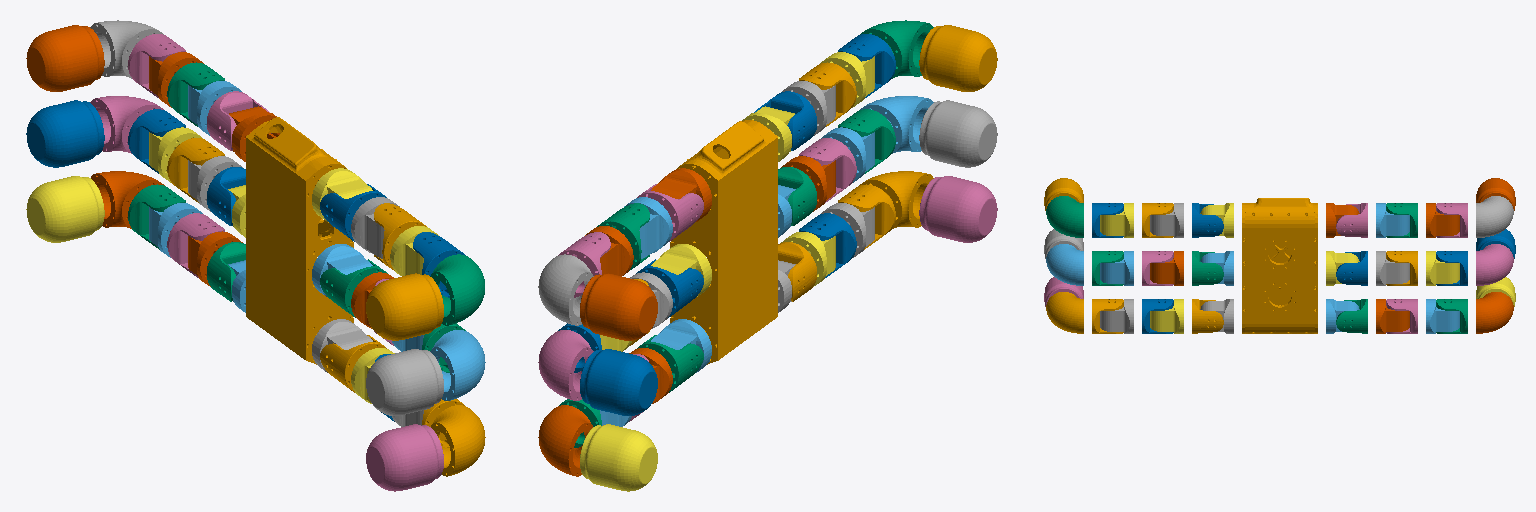
--- Render facts (derived) ---
3 views of the same robot in one strip: view 1: azimuth 30°, elevation 25°; view 2: azimuth 150°, elevation 25°; view 3: azimuth 270°, elevation 25° (orthographic).
Model modular_robot_compiled with 49 links and 48 joints (18 revolute, 30 fixed), rooted at eigenbody_M0_S0, posed all joints at 0.
Links seen in each view (by area): view 1: eigenbody_M0_S0, foot_input_M26_S26, foot_input_M30_S30, foot_input_M28_S28, foot_input_M29_S29, foot_input_M25_S25, foot_input_M27_S27, static_elbow_M24_S24, static_elbow_M22_S22, static_elbow_M23_S23, static_elbow_M19_S19, static_elbow_M20_S20 (+28 smaller); view 2: eigenbody_M0_S0, foot_input_M29_S29, foot_input_M27_S27, foot_input_M25_S25, foot_input_M26_S26, foot_input_M28_S28, foot_input_M30_S30, static_elbow_M21_S21, static_elbow_M19_S19, static_elbow_M20_S20, static_elbow_M22_S22, static_elbow_M23_S23 (+28 smaller); view 3: eigenbody_M0_S0, static_elbow_M21_S21, static_elbow_M24_S24, static_elbow_M20_S20, static_elbow_M23_S23, static_elbow_M19_S19, static_elbow_M22_S22, bendy_input_M7_S7, bendy_input_M10_S10, bendy_input_M11_S11, bendy_input_M12_S12, bendy_input_M8_S8 (+28 smaller).
Boxes of the visible links, x1,y1,x2,y2 form: eigenbody_M0_S0: (246, 117, 353, 364); foot_input_M26_S26: (26, 100, 104, 167); foot_input_M30_S30: (366, 273, 443, 340); foot_input_M28_S28: (366, 424, 443, 491); foot_input_M29_S29: (366, 349, 443, 415); foot_input_M25_S25: (26, 176, 104, 242); foot_input_M27_S27: (26, 25, 104, 91); static_elbow_M24_S24: (430, 254, 484, 325); static_elbow_M22_S22: (431, 405, 485, 476); static_elbow_M23_S23: (430, 330, 485, 400); static_elbow_M19_S19: (91, 171, 164, 228); static_elbow_M20_S20: (90, 96, 163, 153); eigenbody_M0_S0: (670, 120, 777, 364); foot_input_M29_S29: (919, 100, 997, 167); foot_input_M27_S27: (580, 273, 657, 340); foot_input_M25_S25: (580, 424, 657, 491); foot_input_M26_S26: (580, 349, 657, 415); foot_input_M28_S28: (919, 176, 997, 242); foot_input_M30_S30: (919, 25, 997, 91); static_elbow_M21_S21: (538, 254, 593, 325); static_elbow_M19_S19: (538, 405, 592, 476); static_elbow_M20_S20: (538, 330, 593, 400); static_elbow_M22_S22: (859, 171, 933, 228); static_elbow_M23_S23: (860, 96, 933, 153); eigenbody_M0_S0: (1242, 198, 1317, 333); static_elbow_M21_S21: (1476, 196, 1513, 237); static_elbow_M24_S24: (1046, 196, 1083, 237); static_elbow_M20_S20: (1476, 244, 1513, 285); static_elbow_M23_S23: (1046, 244, 1083, 285); static_elbow_M19_S19: (1476, 292, 1513, 333); static_elbow_M22_S22: (1046, 292, 1083, 333); bendy_input_M7_S7: (1376, 299, 1409, 333); bendy_input_M10_S10: (1150, 299, 1183, 333); bendy_input_M11_S11: (1150, 251, 1183, 285); bendy_input_M12_S12: (1150, 203, 1183, 237); bendy_input_M8_S8: (1376, 251, 1409, 285).
Size in the robot's own frame: 0.1475 by 0.802 by 0.2555 metres.
Meshes: 5 distinct files referenced, 49 mesh visuals loaded (5 binary STL).

URDF robot description (modular_robot_compiled):
<?xml version="1.0" ?>
<!-- =================================================================================== -->
<!-- |    This document was autogenerated by xacro from [local-path]/catkin_ws/src/eigenbot/urdf/autoXACRO.xacro | -->
<!-- |    EDITING THIS FILE BY HAND IS NOT RECOMMENDED                                 | -->
<!-- =================================================================================== -->
<robot name="modular_robot_compiled" xmlns:xacro="http://www.ros.org/wiki/xacro">
  <link name="eigenbody_M0_S0">
    <inertial>
      <mass value="0.84845"/>
      <origin rpy="0 0 0" xyz="-0.045 0 -0.063"/>
      <inertia ixx=".005031284" ixy="0.000000338" ixz="0.000086805" iyy="0.003968526" iyz="0.000039596" izz="0.001646162"/>
    </inertial>
    <visual>
      <geometry>
        <mesh filename="package://eigenbot/meshes/Eigenbody.STL" scale="1 1 1"/>
      </geometry>
    </visual>
    <collision>
      <geometry>
        <mesh filename="package://eigenbot/meshes/Eigenbody.STL" scale="1 1 1"/>
      </geometry>
    </collision>
    <material name="black">
      <color rgba="0.1 0.1 0.1 1"/>
    </material>
  </link>
  <link name="bendy_input_M1_S1">
    <inertial>
      <origin rpy="0 0 0" xyz="-0.023 0 0"/>
      <mass value="0.13536"/>
      <inertia ixx="0.000047004" ixy="-0.000000049" ixz="0.000000017" iyy="0.000068413" iyz="0.000000009" izz="0.000070686"/>
    </inertial>
    <visual>
      <geometry>
        <mesh filename="package://eigenbot/meshes/Bendy In.STL" scale="1 1 1"/>
      </geometry>
    </visual>
    <collision>
      <geometry>
        <mesh filename="package://eigenbot/meshes/Bendy In.STL" scale="1 1 1"/>
      </geometry>
    </collision>
    <material name="black">
      <color rgba="0.1 0.1 0.1 1"/>
    </material>
  </link>
  <link name="bendy_output_M1_S1">
    <inertial>
      <origin rpy="0 0 0" xyz="-0.029 0 0"/>
      <mass value=".03522"/>
      <inertia ixx="0.000021977" ixy="0.000000082" ixz="-0.000000063" iyy="0.000017473" iyz="0.000000067" izz="0.000021078"/>
    </inertial>
    <visual>
      <geometry>
        <mesh filename="package://eigenbot/meshes/Bendy Out.STL" scale="1 1 1"/>
      </geometry>
      <origin rpy="0 0 0" xyz="0 0 0 "/>
    </visual>
    <collision>
      <geometry>
        <mesh filename="package://eigenbot/meshes/Bendy Out.STL" scale="1 1 1"/>
      </geometry>
      <origin rpy="0 0 0" xyz="0 0 0"/>
    </collision>
    <material name="black">
      <color rgba="0.1 0.1 0.1 1"/>
    </material>
  </link>
  <joint name="bendy_joint_M1_S1" type="revolute">
    <parent link="bendy_input_M1_S1"/>
    <child link="bendy_output_M1_S1"/>
    <origin rpy="0 0 0" xyz="-0.049 0 0"/>
    <axis xyz="0 1 0"/>
    <limit effort="100.0" lower="-1.57079632679" upper="1.57079632679" velocity="5"/>
  </joint>
  <link name="bendy_input_M2_S2">
    <inertial>
      <origin rpy="0 0 0" xyz="-0.023 0 0"/>
      <mass value="0.13536"/>
      <inertia ixx="0.000047004" ixy="-0.000000049" ixz="0.000000017" iyy="0.000068413" iyz="0.000000009" izz="0.000070686"/>
    </inertial>
    <visual>
      <geometry>
        <mesh filename="package://eigenbot/meshes/Bendy In.STL" scale="1 1 1"/>
      </geometry>
    </visual>
    <collision>
      <geometry>
        <mesh filename="package://eigenbot/meshes/Bendy In.STL" scale="1 1 1"/>
      </geometry>
    </collision>
    <material name="black">
      <color rgba="0.1 0.1 0.1 1"/>
    </material>
  </link>
  <link name="bendy_output_M2_S2">
    <inertial>
      <origin rpy="0 0 0" xyz="-0.029 0 0"/>
      <mass value=".03522"/>
      <inertia ixx="0.000021977" ixy="0.000000082" ixz="-0.000000063" iyy="0.000017473" iyz="0.000000067" izz="0.000021078"/>
    </inertial>
    <visual>
      <geometry>
        <mesh filename="package://eigenbot/meshes/Bendy Out.STL" scale="1 1 1"/>
      </geometry>
      <origin rpy="0 0 0" xyz="0 0 0 "/>
    </visual>
    <collision>
      <geometry>
        <mesh filename="package://eigenbot/meshes/Bendy Out.STL" scale="1 1 1"/>
      </geometry>
      <origin rpy="0 0 0" xyz="0 0 0"/>
    </collision>
    <material name="black">
      <color rgba="0.1 0.1 0.1 1"/>
    </material>
  </link>
  <joint name="bendy_joint_M2_S2" type="revolute">
    <parent link="bendy_input_M2_S2"/>
    <child link="bendy_output_M2_S2"/>
    <origin rpy="0 0 0" xyz="-0.049 0 0"/>
    <axis xyz="0 1 0"/>
    <limit effort="100.0" lower="-1.57079632679" upper="1.57079632679" velocity="5"/>
  </joint>
  <link name="bendy_input_M3_S3">
    <inertial>
      <origin rpy="0 0 0" xyz="-0.023 0 0"/>
      <mass value="0.13536"/>
      <inertia ixx="0.000047004" ixy="-0.000000049" ixz="0.000000017" iyy="0.000068413" iyz="0.000000009" izz="0.000070686"/>
    </inertial>
    <visual>
      <geometry>
        <mesh filename="package://eigenbot/meshes/Bendy In.STL" scale="1 1 1"/>
      </geometry>
    </visual>
    <collision>
      <geometry>
        <mesh filename="package://eigenbot/meshes/Bendy In.STL" scale="1 1 1"/>
      </geometry>
    </collision>
    <material name="black">
      <color rgba="0.1 0.1 0.1 1"/>
    </material>
  </link>
  <link name="bendy_output_M3_S3">
    <inertial>
      <origin rpy="0 0 0" xyz="-0.029 0 0"/>
      <mass value=".03522"/>
      <inertia ixx="0.000021977" ixy="0.000000082" ixz="-0.000000063" iyy="0.000017473" iyz="0.000000067" izz="0.000021078"/>
    </inertial>
    <visual>
      <geometry>
        <mesh filename="package://eigenbot/meshes/Bendy Out.STL" scale="1 1 1"/>
      </geometry>
      <origin rpy="0 0 0" xyz="0 0 0 "/>
    </visual>
    <collision>
      <geometry>
        <mesh filename="package://eigenbot/meshes/Bendy Out.STL" scale="1 1 1"/>
      </geometry>
      <origin rpy="0 0 0" xyz="0 0 0"/>
    </collision>
    <material name="black">
      <color rgba="0.1 0.1 0.1 1"/>
    </material>
  </link>
  <joint name="bendy_joint_M3_S3" type="revolute">
    <parent link="bendy_input_M3_S3"/>
    <child link="bendy_output_M3_S3"/>
    <origin rpy="0 0 0" xyz="-0.049 0 0"/>
    <axis xyz="0 1 0"/>
    <limit effort="100.0" lower="-1.57079632679" upper="1.57079632679" velocity="5"/>
  </joint>
  <link name="bendy_input_M4_S4">
    <inertial>
      <origin rpy="0 0 0" xyz="-0.023 0 0"/>
      <mass value="0.13536"/>
      <inertia ixx="0.000047004" ixy="-0.000000049" ixz="0.000000017" iyy="0.000068413" iyz="0.000000009" izz="0.000070686"/>
    </inertial>
    <visual>
      <geometry>
        <mesh filename="package://eigenbot/meshes/Bendy In.STL" scale="1 1 1"/>
      </geometry>
    </visual>
    <collision>
      <geometry>
        <mesh filename="package://eigenbot/meshes/Bendy In.STL" scale="1 1 1"/>
      </geometry>
    </collision>
    <material name="black">
      <color rgba="0.1 0.1 0.1 1"/>
    </material>
  </link>
  <link name="bendy_output_M4_S4">
    <inertial>
      <origin rpy="0 0 0" xyz="-0.029 0 0"/>
      <mass value=".03522"/>
      <inertia ixx="0.000021977" ixy="0.000000082" ixz="-0.000000063" iyy="0.000017473" iyz="0.000000067" izz="0.000021078"/>
    </inertial>
    <visual>
      <geometry>
        <mesh filename="package://eigenbot/meshes/Bendy Out.STL" scale="1 1 1"/>
      </geometry>
      <origin rpy="0 0 0" xyz="0 0 0 "/>
    </visual>
    <collision>
      <geometry>
        <mesh filename="package://eigenbot/meshes/Bendy Out.STL" scale="1 1 1"/>
      </geometry>
      <origin rpy="0 0 0" xyz="0 0 0"/>
    </collision>
    <material name="black">
      <color rgba="0.1 0.1 0.1 1"/>
    </material>
  </link>
  <joint name="bendy_joint_M4_S4" type="revolute">
    <parent link="bendy_input_M4_S4"/>
    <child link="bendy_output_M4_S4"/>
    <origin rpy="0 0 0" xyz="-0.049 0 0"/>
    <axis xyz="0 1 0"/>
    <limit effort="100.0" lower="-1.57079632679" upper="1.57079632679" velocity="5"/>
  </joint>
  <link name="bendy_input_M5_S5">
    <inertial>
      <origin rpy="0 0 0" xyz="-0.023 0 0"/>
      <mass value="0.13536"/>
      <inertia ixx="0.000047004" ixy="-0.000000049" ixz="0.000000017" iyy="0.000068413" iyz="0.000000009" izz="0.000070686"/>
    </inertial>
    <visual>
      <geometry>
        <mesh filename="package://eigenbot/meshes/Bendy In.STL" scale="1 1 1"/>
      </geometry>
    </visual>
    <collision>
      <geometry>
        <mesh filename="package://eigenbot/meshes/Bendy In.STL" scale="1 1 1"/>
      </geometry>
    </collision>
    <material name="black">
      <color rgba="0.1 0.1 0.1 1"/>
    </material>
  </link>
  <link name="bendy_output_M5_S5">
    <inertial>
      <origin rpy="0 0 0" xyz="-0.029 0 0"/>
      <mass value=".03522"/>
      <inertia ixx="0.000021977" ixy="0.000000082" ixz="-0.000000063" iyy="0.000017473" iyz="0.000000067" izz="0.000021078"/>
    </inertial>
    <visual>
      <geometry>
        <mesh filename="package://eigenbot/meshes/Bendy Out.STL" scale="1 1 1"/>
      </geometry>
      <origin rpy="0 0 0" xyz="0 0 0 "/>
    </visual>
    <collision>
      <geometry>
        <mesh filename="package://eigenbot/meshes/Bendy Out.STL" scale="1 1 1"/>
      </geometry>
      <origin rpy="0 0 0" xyz="0 0 0"/>
    </collision>
    <material name="black">
      <color rgba="0.1 0.1 0.1 1"/>
    </material>
  </link>
  <joint name="bendy_joint_M5_S5" type="revolute">
    <parent link="bendy_input_M5_S5"/>
    <child link="bendy_output_M5_S5"/>
    <origin rpy="0 0 0" xyz="-0.049 0 0"/>
    <axis xyz="0 1 0"/>
    <limit effort="100.0" lower="-1.57079632679" upper="1.57079632679" velocity="5"/>
  </joint>
  <link name="bendy_input_M6_S6">
    <inertial>
      <origin rpy="0 0 0" xyz="-0.023 0 0"/>
      <mass value="0.13536"/>
      <inertia ixx="0.000047004" ixy="-0.000000049" ixz="0.000000017" iyy="0.000068413" iyz="0.000000009" izz="0.000070686"/>
    </inertial>
    <visual>
      <geometry>
        <mesh filename="package://eigenbot/meshes/Bendy In.STL" scale="1 1 1"/>
      </geometry>
    </visual>
    <collision>
      <geometry>
        <mesh filename="package://eigenbot/meshes/Bendy In.STL" scale="1 1 1"/>
      </geometry>
    </collision>
    <material name="black">
      <color rgba="0.1 0.1 0.1 1"/>
    </material>
  </link>
  <link name="bendy_output_M6_S6">
    <inertial>
      <origin rpy="0 0 0" xyz="-0.029 0 0"/>
      <mass value=".03522"/>
      <inertia ixx="0.000021977" ixy="0.000000082" ixz="-0.000000063" iyy="0.000017473" iyz="0.000000067" izz="0.000021078"/>
    </inertial>
    <visual>
      <geometry>
        <mesh filename="package://eigenbot/meshes/Bendy Out.STL" scale="1 1 1"/>
      </geometry>
      <origin rpy="0 0 0" xyz="0 0 0 "/>
    </visual>
    <collision>
      <geometry>
        <mesh filename="package://eigenbot/meshes/Bendy Out.STL" scale="1 1 1"/>
      </geometry>
      <origin rpy="0 0 0" xyz="0 0 0"/>
    </collision>
    <material name="black">
      <color rgba="0.1 0.1 0.1 1"/>
    </material>
  </link>
  <joint name="bendy_joint_M6_S6" type="revolute">
    <parent link="bendy_input_M6_S6"/>
    <child link="bendy_output_M6_S6"/>
    <origin rpy="0 0 0" xyz="-0.049 0 0"/>
    <axis xyz="0 1 0"/>
    <limit effort="100.0" lower="-1.57079632679" upper="1.57079632679" velocity="5"/>
  </joint>
  <link name="bendy_input_M7_S7">
    <inertial>
      <origin rpy="0 0 0" xyz="-0.023 0 0"/>
      <mass value="0.13536"/>
      <inertia ixx="0.000047004" ixy="-0.000000049" ixz="0.000000017" iyy="0.000068413" iyz="0.000000009" izz="0.000070686"/>
    </inertial>
    <visual>
      <geometry>
        <mesh filename="package://eigenbot/meshes/Bendy In.STL" scale="1 1 1"/>
      </geometry>
    </visual>
    <collision>
      <geometry>
        <mesh filename="package://eigenbot/meshes/Bendy In.STL" scale="1 1 1"/>
      </geometry>
    </collision>
    <material name="black">
      <color rgba="0.1 0.1 0.1 1"/>
    </material>
  </link>
  <link name="bendy_output_M7_S7">
    <inertial>
      <origin rpy="0 0 0" xyz="-0.029 0 0"/>
      <mass value=".03522"/>
      <inertia ixx="0.000021977" ixy="0.000000082" ixz="-0.000000063" iyy="0.000017473" iyz="0.000000067" izz="0.000021078"/>
    </inertial>
    <visual>
      <geometry>
        <mesh filename="package://eigenbot/meshes/Bendy Out.STL" scale="1 1 1"/>
      </geometry>
      <origin rpy="0 0 0" xyz="0 0 0 "/>
    </visual>
    <collision>
      <geometry>
        <mesh filename="package://eigenbot/meshes/Bendy Out.STL" scale="1 1 1"/>
      </geometry>
      <origin rpy="0 0 0" xyz="0 0 0"/>
    </collision>
    <material name="black">
      <color rgba="0.1 0.1 0.1 1"/>
    </material>
  </link>
  <joint name="bendy_joint_M7_S7" type="revolute">
    <parent link="bendy_input_M7_S7"/>
    <child link="bendy_output_M7_S7"/>
    <origin rpy="0 0 0" xyz="-0.049 0 0"/>
    <axis xyz="0 1 0"/>
    <limit effort="100.0" lower="-1.57079632679" upper="1.57079632679" velocity="5"/>
  </joint>
  <link name="bendy_input_M8_S8">
    <inertial>
      <origin rpy="0 0 0" xyz="-0.023 0 0"/>
      <mass value="0.13536"/>
      <inertia ixx="0.000047004" ixy="-0.000000049" ixz="0.000000017" iyy="0.000068413" iyz="0.000000009" izz="0.000070686"/>
    </inertial>
    <visual>
      <geometry>
        <mesh filename="package://eigenbot/meshes/Bendy In.STL" scale="1 1 1"/>
      </geometry>
    </visual>
    <collision>
      <geometry>
        <mesh filename="package://eigenbot/meshes/Bendy In.STL" scale="1 1 1"/>
      </geometry>
    </collision>
    <material name="black">
      <color rgba="0.1 0.1 0.1 1"/>
    </material>
  </link>
  <link name="bendy_output_M8_S8">
    <inertial>
      <origin rpy="0 0 0" xyz="-0.029 0 0"/>
      <mass value=".03522"/>
      <inertia ixx="0.000021977" ixy="0.000000082" ixz="-0.000000063" iyy="0.000017473" iyz="0.000000067" izz="0.000021078"/>
    </inertial>
    <visual>
      <geometry>
        <mesh filename="package://eigenbot/meshes/Bendy Out.STL" scale="1 1 1"/>
      </geometry>
      <origin rpy="0 0 0" xyz="0 0 0 "/>
    </visual>
    <collision>
      <geometry>
        <mesh filename="package://eigenbot/meshes/Bendy Out.STL" scale="1 1 1"/>
      </geometry>
      <origin rpy="0 0 0" xyz="0 0 0"/>
    </collision>
    <material name="black">
      <color rgba="0.1 0.1 0.1 1"/>
    </material>
  </link>
  <joint name="bendy_joint_M8_S8" type="revolute">
    <parent link="bendy_input_M8_S8"/>
    <child link="bendy_output_M8_S8"/>
    <origin rpy="0 0 0" xyz="-0.049 0 0"/>
    <axis xyz="0 1 0"/>
    <limit effort="100.0" lower="-1.57079632679" upper="1.57079632679" velocity="5"/>
  </joint>
  <link name="bendy_input_M9_S9">
    <inertial>
      <origin rpy="0 0 0" xyz="-0.023 0 0"/>
      <mass value="0.13536"/>
      <inertia ixx="0.000047004" ixy="-0.000000049" ixz="0.000000017" iyy="0.000068413" iyz="0.000000009" izz="0.000070686"/>
    </inertial>
    <visual>
      <geometry>
        <mesh filename="package://eigenbot/meshes/Bendy In.STL" scale="1 1 1"/>
      </geometry>
    </visual>
    <collision>
      <geometry>
        <mesh filename="package://eigenbot/meshes/Bendy In.STL" scale="1 1 1"/>
      </geometry>
    </collision>
    <material name="black">
      <color rgba="0.1 0.1 0.1 1"/>
    </material>
  </link>
  <link name="bendy_output_M9_S9">
    <inertial>
      <origin rpy="0 0 0" xyz="-0.029 0 0"/>
      <mass value=".03522"/>
      <inertia ixx="0.000021977" ixy="0.000000082" ixz="-0.000000063" iyy="0.000017473" iyz="0.000000067" izz="0.000021078"/>
    </inertial>
    <visual>
      <geometry>
        <mesh filename="package://eigenbot/meshes/Bendy Out.STL" scale="1 1 1"/>
      </geometry>
      <origin rpy="0 0 0" xyz="0 0 0 "/>
    </visual>
    <collision>
      <geometry>
        <mesh filename="package://eigenbot/meshes/Bendy Out.STL" scale="1 1 1"/>
      </geometry>
      <origin rpy="0 0 0" xyz="0 0 0"/>
    </collision>
    <material name="black">
      <color rgba="0.1 0.1 0.1 1"/>
    </material>
  </link>
  <joint name="bendy_joint_M9_S9" type="revolute">
    <parent link="bendy_input_M9_S9"/>
    <child link="bendy_output_M9_S9"/>
    <origin rpy="0 0 0" xyz="-0.049 0 0"/>
    <axis xyz="0 1 0"/>
    <limit effort="100.0" lower="-1.57079632679" upper="1.57079632679" velocity="5"/>
  </joint>
  <link name="bendy_input_M10_S10">
    <inertial>
      <origin rpy="0 0 0" xyz="-0.023 0 0"/>
      <mass value="0.13536"/>
      <inertia ixx="0.000047004" ixy="-0.000000049" ixz="0.000000017" iyy="0.000068413" iyz="0.000000009" izz="0.000070686"/>
    </inertial>
    <visual>
      <geometry>
        <mesh filename="package://eigenbot/meshes/Bendy In.STL" scale="1 1 1"/>
      </geometry>
    </visual>
    <collision>
      <geometry>
        <mesh filename="package://eigenbot/meshes/Bendy In.STL" scale="1 1 1"/>
      </geometry>
    </collision>
    <material name="black">
      <color rgba="0.1 0.1 0.1 1"/>
    </material>
  </link>
  <link name="bendy_output_M10_S10">
    <inertial>
      <origin rpy="0 0 0" xyz="-0.029 0 0"/>
      <mass value=".03522"/>
      <inertia ixx="0.000021977" ixy="0.000000082" ixz="-0.000000063" iyy="0.000017473" iyz="0.000000067" izz="0.000021078"/>
    </inertial>
    <visual>
      <geometry>
        <mesh filename="package://eigenbot/meshes/Bendy Out.STL" scale="1 1 1"/>
      </geometry>
      <origin rpy="0 0 0" xyz="0 0 0 "/>
    </visual>
    <collision>
      <geometry>
        <mesh filename="package://eigenbot/meshes/Bendy Out.STL" scale="1 1 1"/>
      </geometry>
      <origin rpy="0 0 0" xyz="0 0 0"/>
    </collision>
    <material name="black">
      <color rgba="0.1 0.1 0.1 1"/>
    </material>
  </link>
  <joint name="bendy_joint_M10_S10" type="revolute">
    <parent link="bendy_input_M10_S10"/>
    <child link="bendy_output_M10_S10"/>
    <origin rpy="0 0 0" xyz="-0.049 0 0"/>
    <axis xyz="0 1 0"/>
    <limit effort="100.0" lower="-1.57079632679" upper="1.57079632679" velocity="5"/>
  </joint>
  <link name="bendy_input_M11_S11">
    <inertial>
      <origin rpy="0 0 0" xyz="-0.023 0 0"/>
      <mass value="0.13536"/>
      <inertia ixx="0.000047004" ixy="-0.000000049" ixz="0.000000017" iyy="0.000068413" iyz="0.000000009" izz="0.000070686"/>
    </inertial>
    <visual>
      <geometry>
        <mesh filename="package://eigenbot/meshes/Bendy In.STL" scale="1 1 1"/>
      </geometry>
    </visual>
    <collision>
      <geometry>
        <mesh filename="package://eigenbot/meshes/Bendy In.STL" scale="1 1 1"/>
      </geometry>
    </collision>
    <material name="black">
      <color rgba="0.1 0.1 0.1 1"/>
    </material>
  </link>
  <link name="bendy_output_M11_S11">
    <inertial>
      <origin rpy="0 0 0" xyz="-0.029 0 0"/>
      <mass value=".03522"/>
      <inertia ixx="0.000021977" ixy="0.000000082" ixz="-0.000000063" iyy="0.000017473" iyz="0.000000067" izz="0.000021078"/>
    </inertial>
    <visual>
      <geometry>
        <mesh filename="package://eigenbot/meshes/Bendy Out.STL" scale="1 1 1"/>
      </geometry>
      <origin rpy="0 0 0" xyz="0 0 0 "/>
    </visual>
    <collision>
      <geometry>
        <mesh filename="package://eigenbot/meshes/Bendy Out.STL" scale="1 1 1"/>
      </geometry>
      <origin rpy="0 0 0" xyz="0 0 0"/>
    </collision>
    <material name="black">
      <color rgba="0.1 0.1 0.1 1"/>
    </material>
  </link>
  <joint name="bendy_joint_M11_S11" type="revolute">
    <parent link="bendy_input_M11_S11"/>
    <child link="bendy_output_M11_S11"/>
    <origin rpy="0 0 0" xyz="-0.049 0 0"/>
    <axis xyz="0 1 0"/>
    <limit effort="100.0" lower="-1.57079632679" upper="1.57079632679" velocity="5"/>
  </joint>
  <link name="bendy_input_M12_S12">
    <inertial>
      <origin rpy="0 0 0" xyz="-0.023 0 0"/>
      <mass value="0.13536"/>
      <inertia ixx="0.000047004" ixy="-0.000000049" ixz="0.000000017" iyy="0.000068413" iyz="0.000000009" izz="0.000070686"/>
    </inertial>
    <visual>
      <geometry>
        <mesh filename="package://eigenbot/meshes/Bendy In.STL" scale="1 1 1"/>
      </geometry>
    </visual>
    <collision>
      <geometry>
        <mesh filename="package://eigenbot/meshes/Bendy In.STL" scale="1 1 1"/>
      </geometry>
    </collision>
    <material name="black">
      <color rgba="0.1 0.1 0.1 1"/>
    </material>
  </link>
  <link name="bendy_output_M12_S12">
    <inertial>
      <origin rpy="0 0 0" xyz="-0.029 0 0"/>
      <mass value=".03522"/>
      <inertia ixx="0.000021977" ixy="0.000000082" ixz="-0.000000063" iyy="0.000017473" iyz="0.000000067" izz="0.000021078"/>
    </inertial>
    <visual>
      <geometry>
        <mesh filename="package://eigenbot/meshes/Bendy Out.STL" scale="1 1 1"/>
      </geometry>
      <origin rpy="0 0 0" xyz="0 0 0 "/>
    </visual>
    <collision>
      <geometry>
        <mesh filename="package://eigenbot/meshes/Bendy Out.STL" scale="1 1 1"/>
      </geometry>
      <origin rpy="0 0 0" xyz="0 0 0"/>
    </collision>
    <material name="black">
      <color rgba="0.1 0.1 0.1 1"/>
    </material>
  </link>
  <joint name="bendy_joint_M12_S12" type="revolute">
    <parent link="bendy_input_M12_S12"/>
    <child link="bendy_output_M12_S12"/>
    <origin rpy="0 0 0" xyz="-0.049 0 0"/>
    <axis xyz="0 1 0"/>
    <limit effort="100.0" lower="-1.57079632679" upper="1.57079632679" velocity="5"/>
  </joint>
  <link name="bendy_input_M13_S13">
    <inertial>
      <origin rpy="0 0 0" xyz="-0.023 0 0"/>
      <mass value="0.13536"/>
      <inertia ixx="0.000047004" ixy="-0.000000049" ixz="0.000000017" iyy="0.000068413" iyz="0.000000009" izz="0.000070686"/>
    </inertial>
    <visual>
      <geometry>
        <mesh filename="package://eigenbot/meshes/Bendy In.STL" scale="1 1 1"/>
      </geometry>
    </visual>
    <collision>
      <geometry>
        <mesh filename="package://eigenbot/meshes/Bendy In.STL" scale="1 1 1"/>
      </geometry>
    </collision>
    <material name="black">
      <color rgba="0.1 0.1 0.1 1"/>
    </material>
  </link>
  <link name="bendy_output_M13_S13">
    <inertial>
      <origin rpy="0 0 0" xyz="-0.029 0 0"/>
      <mass value=".03522"/>
      <inertia ixx="0.000021977" ixy="0.000000082" ixz="-0.000000063" iyy="0.000017473" iyz="0.000000067" izz="0.000021078"/>
    </inertial>
    <visual>
      <geometry>
        <mesh filename="package://eigenbot/meshes/Bendy Out.STL" scale="1 1 1"/>
      </geometry>
      <origin rpy="0 0 0" xyz="0 0 0 "/>
    </visual>
    <collision>
      <geometry>
        <mesh filename="package://eigenbot/meshes/Bendy Out.STL" scale="1 1 1"/>
      </geometry>
      <origin rpy="0 0 0" xyz="0 0 0"/>
    </collision>
    <material name="black">
      <color rgba="0.1 0.1 0.1 1"/>
    </material>
  </link>
  <joint name="bendy_joint_M13_S13" type="revolute">
    <parent link="bendy_input_M13_S13"/>
    <child link="bendy_output_M13_S13"/>
    <origin rpy="0 0 0" xyz="-0.049 0 0"/>
    <axis xyz="0 1 0"/>
    <limit effort="100.0" lower="-1.57079632679" upper="1.57079632679" velocity="5"/>
  </joint>
  <link name="bendy_input_M14_S14">
    <inertial>
      <origin rpy="0 0 0" xyz="-0.023 0 0"/>
      <mass value="0.13536"/>
      <inertia ixx="0.000047004" ixy="-0.000000049" ixz="0.000000017" iyy="0.000068413" iyz="0.000000009" izz="0.000070686"/>
    </inertial>
    <visual>
      <geometry>
        <mesh filename="package://eigenbot/meshes/Bendy In.STL" scale="1 1 1"/>
      </geometry>
    </visual>
    <collision>
      <geometry>
        <mesh filename="package://eigenbot/meshes/Bendy In.STL" scale="1 1 1"/>
      </geometry>
    </collision>
    <material name="black">
      <color rgba="0.1 0.1 0.1 1"/>
    </material>
  </link>
  <link name="bendy_output_M14_S14">
    <inertial>
      <origin rpy="0 0 0" xyz="-0.029 0 0"/>
      <mass value=".03522"/>
      <inertia ixx="0.000021977" ixy="0.000000082" ixz="-0.000000063" iyy="0.000017473" iyz="0.000000067" izz="0.000021078"/>
    </inertial>
    <visual>
      <geometry>
        <mesh filename="package://eigenbot/meshes/Bendy Out.STL" scale="1 1 1"/>
      </geometry>
      <origin rpy="0 0 0" xyz="0 0 0 "/>
    </visual>
    <collision>
      <geometry>
        <mesh filename="package://eigenbot/meshes/Bendy Out.STL" scale="1 1 1"/>
      </geometry>
      <origin rpy="0 0 0" xyz="0 0 0"/>
    </collision>
    <material name="black">
      <color rgba="0.1 0.1 0.1 1"/>
    </material>
  </link>
  <joint name="bendy_joint_M14_S14" type="revolute">
    <parent link="bendy_input_M14_S14"/>
    <child link="bendy_output_M14_S14"/>
    <origin rpy="0 0 0" xyz="-0.049 0 0"/>
    <axis xyz="0 1 0"/>
    <limit effort="100.0" lower="-1.57079632679" upper="1.57079632679" velocity="5"/>
  </joint>
  <link name="bendy_input_M15_S15">
    <inertial>
      <origin rpy="0 0 0" xyz="-0.023 0 0"/>
      <mass value="0.13536"/>
      <inertia ixx="0.000047004" ixy="-0.000000049" ixz="0.000000017" iyy="0.000068413" iyz="0.000000009" izz="0.000070686"/>
    </inertial>
    <visual>
      <geometry>
        <mesh filename="package://eigenbot/meshes/Bendy In.STL" scale="1 1 1"/>
      </geometry>
    </visual>
    <collision>
      <geometry>
        <mesh filename="package://eigenbot/meshes/Bendy In.STL" scale="1 1 1"/>
      </geometry>
    </collision>
    <material name="black">
      <color rgba="0.1 0.1 0.1 1"/>
    </material>
  </link>
  <link name="bendy_output_M15_S15">
    <inertial>
      <origin rpy="0 0 0" xyz="-0.029 0 0"/>
      <mass value=".03522"/>
      <inertia ixx="0.000021977" ixy="0.000000082" ixz="-0.000000063" iyy="0.000017473" iyz="0.000000067" izz="0.000021078"/>
    </inertial>
    <visual>
      <geometry>
        <mesh filename="package://eigenbot/meshes/Bendy Out.STL" scale="1 1 1"/>
      </geometry>
      <origin rpy="0 0 0" xyz="0 0 0 "/>
    </visual>
    <collision>
      <geometry>
        <mesh filename="package://eigenbot/meshes/Bendy Out.STL" scale="1 1 1"/>
      </geometry>
      <origin rpy="0 0 0" xyz="0 0 0"/>
    </collision>
    <material name="black">
      <color rgba="0.1 0.1 0.1 1"/>
    </material>
  </link>
  <joint name="bendy_joint_M15_S15" type="revolute">
    <parent link="bendy_input_M15_S15"/>
    <child link="bendy_output_M15_S15"/>
    <origin rpy="0 0 0" xyz="-0.049 0 0"/>
    <axis xyz="0 1 0"/>
    <limit effort="100.0" lower="-1.57079632679" upper="1.57079632679" velocity="5"/>
  </joint>
  <link name="bendy_input_M16_S16">
    <inertial>
      <origin rpy="0 0 0" xyz="-0.023 0 0"/>
      <mass value="0.13536"/>
      <inertia ixx="0.000047004" ixy="-0.000000049" ixz="0.000000017" iyy="0.000068413" iyz="0.000000009" izz="0.000070686"/>
    </inertial>
    <visual>
      <geometry>
        <mesh filename="package://eigenbot/meshes/Bendy In.STL" scale="1 1 1"/>
      </geometry>
    </visual>
    <collision>
      <geometry>
        <mesh filename="package://eigenbot/meshes/Bendy In.STL" scale="1 1 1"/>
      </geometry>
    </collision>
    <material name="black">
      <color rgba="0.1 0.1 0.1 1"/>
    </material>
  </link>
  <link name="bendy_output_M16_S16">
    <inertial>
      <origin rpy="0 0 0" xyz="-0.029 0 0"/>
      <mass value=".03522"/>
      <inertia ixx="0.000021977" ixy="0.000000082" ixz="-0.000000063" iyy="0.000017473" iyz="0.000000067" izz="0.000021078"/>
    </inertial>
    <visual>
      <geometry>
        <mesh filename="package://eigenbot/meshes/Bendy Out.STL" scale="1 1 1"/>
      </geometry>
      <origin rpy="0 0 0" xyz="0 0 0 "/>
    </visual>
    <collision>
      <geometry>
        <mesh filename="package://eigenbot/meshes/Bendy Out.STL" scale="1 1 1"/>
      </geometry>
      <origin rpy="0 0 0" xyz="0 0 0"/>
    </collision>
    <material name="black">
      <color rgba="0.1 0.1 0.1 1"/>
    </material>
  </link>
  <joint name="bendy_joint_M16_S16" type="revolute">
    <parent link="bendy_input_M16_S16"/>
    <child link="bendy_output_M16_S16"/>
    <origin rpy="0 0 0" xyz="-0.049 0 0"/>
    <axis xyz="0 1 0"/>
    <limit effort="100.0" lower="-1.57079632679" upper="1.57079632679" velocity="5"/>
  </joint>
  <link name="bendy_input_M17_S17">
    <inertial>
      <origin rpy="0 0 0" xyz="-0.023 0 0"/>
      <mass value="0.13536"/>
      <inertia ixx="0.000047004" ixy="-0.000000049" ixz="0.000000017" iyy="0.000068413" iyz="0.000000009" izz="0.000070686"/>
    </inertial>
    <visual>
      <geometry>
        <mesh filename="package://eigenbot/meshes/Bendy In.STL" scale="1 1 1"/>
      </geometry>
    </visual>
    <collision>
      <geometry>
        <mesh filename="package://eigenbot/meshes/Bendy In.STL" scale="1 1 1"/>
      </geometry>
    </collision>
    <material name="black">
      <color rgba="0.1 0.1 0.1 1"/>
    </material>
  </link>
  <link name="bendy_output_M17_S17">
    <inertial>
      <origin rpy="0 0 0" xyz="-0.029 0 0"/>
      <mass value=".03522"/>
      <inertia ixx="0.000021977" ixy="0.000000082" ixz="-0.000000063" iyy="0.000017473" iyz="0.000000067" izz="0.000021078"/>
    </inertial>
    <visual>
      <geometry>
        <mesh filename="package://eigenbot/meshes/Bendy Out.STL" scale="1 1 1"/>
      </geometry>
      <origin rpy="0 0 0" xyz="0 0 0 "/>
    </visual>
    <collision>
      <geometry>
        <mesh filename="package://eigenbot/meshes/Bendy Out.STL" scale="1 1 1"/>
      </geometry>
      <origin rpy="0 0 0" xyz="0 0 0"/>
    </collision>
    <material name="black">
      <color rgba="0.1 0.1 0.1 1"/>
    </material>
  </link>
  <joint name="bendy_joint_M17_S17" type="revolute">
    <parent link="bendy_input_M17_S17"/>
    <child link="bendy_output_M17_S17"/>
    <origin rpy="0 0 0" xyz="-0.049 0 0"/>
    <axis xyz="0 1 0"/>
    <limit effort="100.0" lower="-1.57079632679" upper="1.57079632679" velocity="5"/>
  </joint>
  <link name="bendy_input_M18_S18">
    <inertial>
      <origin rpy="0 0 0" xyz="-0.023 0 0"/>
      <mass value="0.13536"/>
      <inertia ixx="0.000047004" ixy="-0.000000049" ixz="0.000000017" iyy="0.000068413" iyz="0.000000009" izz="0.000070686"/>
    </inertial>
    <visual>
      <geometry>
        <mesh filename="package://eigenbot/meshes/Bendy In.STL" scale="1 1 1"/>
      </geometry>
    </visual>
    <collision>
      <geometry>
        <mesh filename="package://eigenbot/meshes/Bendy In.STL" scale="1 1 1"/>
      </geometry>
    </collision>
    <material name="black">
      <color rgba="0.1 0.1 0.1 1"/>
    </material>
  </link>
  <link name="bendy_output_M18_S18">
    <inertial>
      <origin rpy="0 0 0" xyz="-0.029 0 0"/>
      <mass value=".03522"/>
      <inertia ixx="0.000021977" ixy="0.000000082" ixz="-0.000000063" iyy="0.000017473" iyz="0.000000067" izz="0.000021078"/>
    </inertial>
    <visual>
      <geometry>
        <mesh filename="package://eigenbot/meshes/Bendy Out.STL" scale="1 1 1"/>
      </geometry>
      <origin rpy="0 0 0" xyz="0 0 0 "/>
    </visual>
    <collision>
      <geometry>
        <mesh filename="package://eigenbot/meshes/Bendy Out.STL" scale="1 1 1"/>
      </geometry>
      <origin rpy="0 0 0" xyz="0 0 0"/>
    </collision>
    <material name="black">
      <color rgba="0.1 0.1 0.1 1"/>
    </material>
  </link>
  <joint name="bendy_joint_M18_S18" type="revolute">
    <parent link="bendy_input_M18_S18"/>
    <child link="bendy_output_M18_S18"/>
    <origin rpy="0 0 0" xyz="-0.049 0 0"/>
    <axis xyz="0 1 0"/>
    <limit effort="100.0" lower="-1.57079632679" upper="1.57079632679" velocity="5"/>
  </joint>
  <link name="static_elbow_M19_S19">
    <inertial>
      <origin rpy="0 0 0" xyz="-0.03148 0.00004 -0.01437"/>
      <mass value="0.06766"/>
      <inertia ixx="0.000052397" ixy="-0.0000001126" ixz="0.000015681" iyy="0.000065586" iyz="-0.000000082" izz="0.000053626"/>
    </inertial>
    <visual>
      <geometry>
        <mesh filename="package://eigenbot/meshes/Elbow.STL" scale="1 1 1"/>
      </geometry>
    </visual>
    <collision>
      <geometry>
        <mesh filename="package://eigenbot/meshes/Elbow.STL" scale="1 1 1"/>
      </geometry>
    </collision>
    <material name="black">
      <color rgba="0.1 0.1 0.1 1"/>
    </material>
  </link>
  <link name="static_elbow_M20_S20">
    <inertial>
      <origin rpy="0 0 0" xyz="-0.03148 0.00004 -0.01437"/>
      <mass value="0.06766"/>
      <inertia ixx="0.000052397" ixy="-0.0000001126" ixz="0.000015681" iyy="0.000065586" iyz="-0.000000082" izz="0.000053626"/>
    </inertial>
    <visual>
      <geometry>
        <mesh filename="package://eigenbot/meshes/Elbow.STL" scale="1 1 1"/>
      </geometry>
    </visual>
    <collision>
      <geometry>
        <mesh filename="package://eigenbot/meshes/Elbow.STL" scale="1 1 1"/>
      </geometry>
    </collision>
    <material name="black">
      <color rgba="0.1 0.1 0.1 1"/>
    </material>
  </link>
  <link name="static_elbow_M21_S21">
    <inertial>
      <origin rpy="0 0 0" xyz="-0.03148 0.00004 -0.01437"/>
      <mass value="0.06766"/>
      <inertia ixx="0.000052397" ixy="-0.0000001126" ixz="0.000015681" iyy="0.000065586" iyz="-0.000000082" izz="0.000053626"/>
    </inertial>
    <visual>
      <geometry>
        <mesh filename="package://eigenbot/meshes/Elbow.STL" scale="1 1 1"/>
      </geometry>
    </visual>
    <collision>
      <geometry>
        <mesh filename="package://eigenbot/meshes/Elbow.STL" scale="1 1 1"/>
      </geometry>
    </collision>
    <material name="black">
      <color rgba="0.1 0.1 0.1 1"/>
    </material>
  </link>
  <link name="static_elbow_M22_S22">
    <inertial>
      <origin rpy="0 0 0" xyz="-0.03148 0.00004 -0.01437"/>
      <mass value="0.06766"/>
      <inertia ixx="0.000052397" ixy="-0.0000001126" ixz="0.000015681" iyy="0.000065586" iyz="-0.000000082" izz="0.000053626"/>
    </inertial>
    <visual>
      <geometry>
        <mesh filename="package://eigenbot/meshes/Elbow.STL" scale="1 1 1"/>
      </geometry>
    </visual>
    <collision>
      <geometry>
        <mesh filename="package://eigenbot/meshes/Elbow.STL" scale="1 1 1"/>
      </geometry>
    </collision>
    <material name="black">
      <color rgba="0.1 0.1 0.1 1"/>
    </material>
  </link>
  <link name="static_elbow_M23_S23">
    <inertial>
      <origin rpy="0 0 0" xyz="-0.03148 0.00004 -0.01437"/>
      <mass value="0.06766"/>
      <inertia ixx="0.000052397" ixy="-0.0000001126" ixz="0.000015681" iyy="0.000065586" iyz="-0.000000082" izz="0.000053626"/>
    </inertial>
    <visual>
      <geometry>
        <mesh filename="package://eigenbot/meshes/Elbow.STL" scale="1 1 1"/>
      </geometry>
    </visual>
    <collision>
      <geometry>
        <mesh filename="package://eigenbot/meshes/Elbow.STL" scale="1 1 1"/>
      </geometry>
    </collision>
    <material name="black">
      <color rgba="0.1 0.1 0.1 1"/>
    </material>
  </link>
  <link name="static_elbow_M24_S24">
    <inertial>
      <origin rpy="0 0 0" xyz="-0.03148 0.00004 -0.01437"/>
      <mass value="0.06766"/>
      <inertia ixx="0.000052397" ixy="-0.0000001126" ixz="0.000015681" iyy="0.000065586" iyz="-0.000000082" izz="0.000053626"/>
    </inertial>
    <visual>
      <geometry>
        <mesh filename="package://eigenbot/meshes/Elbow.STL" scale="1 1 1"/>
      </geometry>
    </visual>
    <collision>
      <geometry>
        <mesh filename="package://eigenbot/meshes/Elbow.STL" scale="1 1 1"/>
      </geometry>
    </collision>
    <material name="black">
      <color rgba="0.1 0.1 0.1 1"/>
    </material>
  </link>
  <link name="foot_input_M25_S25">
    <inertial>
      <origin rpy="0 0 0" xyz="-0.03918 0 0"/>
      <mass value="0.04967"/>
      <inertia ixx="0.0000361" ixy="0" ixz="0" iyy="0.0000434" iyz="0" izz="0.0000434"/>
    </inertial>
    <visual>
      <geometry>
        <mesh filename="package://eigenbot/meshes/Foot.STL" scale=" 1 1 1 "/>
      </geometry>
    </visual>
    <collision>
      <geometry>
        <mesh filename="package://eigenbot/meshes/Foot.STL" scale=" 1 1 1 "/>
      </geometry>
    </collision>
    <material name="black">
      <color rgba="0.1 0.1 0.1 1"/>
    </material>
  </link>
  <link name="foot_input_M26_S26">
    <inertial>
      <origin rpy="0 0 0" xyz="-0.03918 0 0"/>
      <mass value="0.04967"/>
      <inertia ixx="0.0000361" ixy="0" ixz="0" iyy="0.0000434" iyz="0" izz="0.0000434"/>
    </inertial>
    <visual>
      <geometry>
        <mesh filename="package://eigenbot/meshes/Foot.STL" scale=" 1 1 1 "/>
      </geometry>
    </visual>
    <collision>
      <geometry>
        <mesh filename="package://eigenbot/meshes/Foot.STL" scale=" 1 1 1 "/>
      </geometry>
    </collision>
    <material name="black">
      <color rgba="0.1 0.1 0.1 1"/>
    </material>
  </link>
  <link name="foot_input_M27_S27">
    <inertial>
      <origin rpy="0 0 0" xyz="-0.03918 0 0"/>
      <mass value="0.04967"/>
      <inertia ixx="0.0000361" ixy="0" ixz="0" iyy="0.0000434" iyz="0" izz="0.0000434"/>
    </inertial>
    <visual>
      <geometry>
        <mesh filename="package://eigenbot/meshes/Foot.STL" scale=" 1 1 1 "/>
      </geometry>
    </visual>
    <collision>
      <geometry>
        <mesh filename="package://eigenbot/meshes/Foot.STL" scale=" 1 1 1 "/>
      </geometry>
    </collision>
    <material name="black">
      <color rgba="0.1 0.1 0.1 1"/>
    </material>
  </link>
  <link name="foot_input_M28_S28">
    <inertial>
      <origin rpy="0 0 0" xyz="-0.03918 0 0"/>
      <mass value="0.04967"/>
      <inertia ixx="0.0000361" ixy="0" ixz="0" iyy="0.0000434" iyz="0" izz="0.0000434"/>
    </inertial>
    <visual>
      <geometry>
        <mesh filename="package://eigenbot/meshes/Foot.STL" scale=" 1 1 1 "/>
      </geometry>
    </visual>
    <collision>
      <geometry>
        <mesh filename="package://eigenbot/meshes/Foot.STL" scale=" 1 1 1 "/>
      </geometry>
    </collision>
    <material name="black">
      <color rgba="0.1 0.1 0.1 1"/>
    </material>
  </link>
  <link name="foot_input_M29_S29">
    <inertial>
      <origin rpy="0 0 0" xyz="-0.03918 0 0"/>
      <mass value="0.04967"/>
      <inertia ixx="0.0000361" ixy="0" ixz="0" iyy="0.0000434" iyz="0" izz="0.0000434"/>
    </inertial>
    <visual>
      <geometry>
        <mesh filename="package://eigenbot/meshes/Foot.STL" scale=" 1 1 1 "/>
      </geometry>
    </visual>
    <collision>
      <geometry>
        <mesh filename="package://eigenbot/meshes/Foot.STL" scale=" 1 1 1 "/>
      </geometry>
    </collision>
    <material name="black">
      <color rgba="0.1 0.1 0.1 1"/>
    </material>
  </link>
  <link name="foot_input_M30_S30">
    <inertial>
      <origin rpy="0 0 0" xyz="-0.03918 0 0"/>
      <mass value="0.04967"/>
      <inertia ixx="0.0000361" ixy="0" ixz="0" iyy="0.0000434" iyz="0" izz="0.0000434"/>
    </inertial>
    <visual>
      <geometry>
        <mesh filename="package://eigenbot/meshes/Foot.STL" scale=" 1 1 1 "/>
      </geometry>
    </visual>
    <collision>
      <geometry>
        <mesh filename="package://eigenbot/meshes/Foot.STL" scale=" 1 1 1 "/>
      </geometry>
    </collision>
    <material name="black">
      <color rgba="0.1 0.1 0.1 1"/>
    </material>
  </link>
  <joint name="connection_0_attachment" type="fixed">
    <origin rpy="0 0 -1.57079632679" xyz="-0.041 0.067 -0.13"/>
    <parent link="eigenbody_M0_S0"/>
    <child link="bendy_input_M1_S1"/>
  </joint>
  <joint name="connection_1_attachment" type="fixed">
    <origin rpy="0 0 -1.57079632679" xyz="-0.041 0.067 -0.04"/>
    <parent link="eigenbody_M0_S0"/>
    <child link="bendy_input_M2_S2"/>
  </joint>
  <joint name="connection_2_attachment" type="fixed">
    <origin rpy="0 0 -1.57079632679" xyz="-0.041 0.067 0.05"/>
    <parent link="eigenbody_M0_S0"/>
    <child link="bendy_input_M3_S3"/>
  </joint>
  <joint name="connection_3_attachment" type="fixed">
    <origin rpy="0 0 1.57079632679" xyz="-0.041 -0.067 -0.13"/>
    <parent link="eigenbody_M0_S0"/>
    <child link="bendy_input_M4_S4"/>
  </joint>
  <joint name="connection_4_attachment" type="fixed">
    <origin rpy="0 0 1.57079632679" xyz="-0.041 -0.067 -0.04"/>
    <parent link="eigenbody_M0_S0"/>
    <child link="bendy_input_M5_S5"/>
  </joint>
  <joint name="connection_5_attachment" type="fixed">
    <origin rpy="0 0 1.57079632679" xyz="-0.041 -0.067 0.05"/>
    <parent link="eigenbody_M0_S0"/>
    <child link="bendy_input_M6_S6"/>
  </joint>
  <joint name="connection_6_attachment" type="fixed">
    <origin rpy="4.71238898038 0 0" xyz="-0.036 0 0"/>
    <parent link="bendy_output_M1_S1"/>
    <child link="bendy_input_M7_S7"/>
  </joint>
  <joint name="connection_7_attachment" type="fixed">
    <origin rpy="4.71238898038 0 0" xyz="-0.036 0 0"/>
    <parent link="bendy_output_M2_S2"/>
    <child link="bendy_input_M8_S8"/>
  </joint>
  <joint name="connection_8_attachment" type="fixed">
    <origin rpy="4.71238898038 0 0" xyz="-0.036 0 0"/>
    <parent link="bendy_output_M3_S3"/>
    <child link="bendy_input_M9_S9"/>
  </joint>
  <joint name="connection_9_attachment" type="fixed">
    <origin rpy="1.57079632679 0 0" xyz="-0.036 0 0"/>
    <parent link="bendy_output_M4_S4"/>
    <child link="bendy_input_M10_S10"/>
  </joint>
  <joint name="connection_10_attachment" type="fixed">
    <origin rpy="1.57079632679 0 0" xyz="-0.036 0 0"/>
    <parent link="bendy_output_M5_S5"/>
    <child link="bendy_input_M11_S11"/>
  </joint>
  <joint name="connection_11_attachment" type="fixed">
    <origin rpy="1.57079632679 0 0" xyz="-0.036 0 0"/>
    <parent link="bendy_output_M6_S6"/>
    <child link="bendy_input_M12_S12"/>
  </joint>
  <joint name="connection_12_attachment" type="fixed">
    <origin rpy="0 0 0" xyz="-0.036 0 0"/>
    <parent link="bendy_output_M7_S7"/>
    <child link="bendy_input_M13_S13"/>
  </joint>
  <joint name="connection_13_attachment" type="fixed">
    <origin rpy="0 0 0" xyz="-0.036 0 0"/>
    <parent link="bendy_output_M8_S8"/>
    <child link="bendy_input_M14_S14"/>
  </joint>
  <joint name="connection_14_attachment" type="fixed">
    <origin rpy="0 0 0" xyz="-0.036 0 0"/>
    <parent link="bendy_output_M9_S9"/>
    <child link="bendy_input_M15_S15"/>
  </joint>
  <joint name="connection_15_attachment" type="fixed">
    <origin rpy="0 0 0" xyz="-0.036 0 0"/>
    <parent link="bendy_output_M10_S10"/>
    <child link="bendy_input_M16_S16"/>
  </joint>
  <joint name="connection_16_attachment" type="fixed">
    <origin rpy="0 0 0" xyz="-0.036 0 0"/>
    <parent link="bendy_output_M11_S11"/>
    <child link="bendy_input_M17_S17"/>
  </joint>
  <joint name="connection_17_attachment" type="fixed">
    <origin rpy="0 0 0" xyz="-0.036 0 0"/>
    <parent link="bendy_output_M12_S12"/>
    <child link="bendy_input_M18_S18"/>
  </joint>
  <joint name="connection_18_attachment" type="fixed">
    <origin rpy="0 0 0" xyz="-0.036 0 0"/>
    <parent link="bendy_output_M13_S13"/>
    <child link="static_elbow_M19_S19"/>
  </joint>
  <joint name="connection_19_attachment" type="fixed">
    <origin rpy="0 0 0" xyz="-0.036 0 0"/>
    <parent link="bendy_output_M14_S14"/>
    <child link="static_elbow_M20_S20"/>
  </joint>
  <joint name="connection_20_attachment" type="fixed">
    <origin rpy="0 0 0" xyz="-0.036 0 0"/>
    <parent link="bendy_output_M15_S15"/>
    <child link="static_elbow_M21_S21"/>
  </joint>
  <joint name="connection_21_attachment" type="fixed">
    <origin rpy="0 0 0" xyz="-0.036 0 0"/>
    <parent link="bendy_output_M16_S16"/>
    <child link="static_elbow_M22_S22"/>
  </joint>
  <joint name="connection_22_attachment" type="fixed">
    <origin rpy="0 0 0" xyz="-0.036 0 0"/>
    <parent link="bendy_output_M17_S17"/>
    <child link="static_elbow_M23_S23"/>
  </joint>
  <joint name="connection_23_attachment" type="fixed">
    <origin rpy="0 0 0" xyz="-0.036 0 0"/>
    <parent link="bendy_output_M18_S18"/>
    <child link="static_elbow_M24_S24"/>
  </joint>
  <joint name="connection_24_attachment" type="fixed">
    <origin rpy="0 -1.57079632679 0" xyz="-0.0455 0 -0.0375"/>
    <parent link="static_elbow_M19_S19"/>
    <child link="foot_input_M25_S25"/>
  </joint>
  <joint name="connection_25_attachment" type="fixed">
    <origin rpy="0 -1.57079632679 0" xyz="-0.0455 0 -0.0375"/>
    <parent link="static_elbow_M20_S20"/>
    <child link="foot_input_M26_S26"/>
  </joint>
  <joint name="connection_26_attachment" type="fixed">
    <origin rpy="0 -1.57079632679 0" xyz="-0.0455 0 -0.0375"/>
    <parent link="static_elbow_M21_S21"/>
    <child link="foot_input_M27_S27"/>
  </joint>
  <joint name="connection_27_attachment" type="fixed">
    <origin rpy="0 -1.57079632679 0" xyz="-0.0455 0 -0.0375"/>
    <parent link="static_elbow_M22_S22"/>
    <child link="foot_input_M28_S28"/>
  </joint>
  <joint name="connection_28_attachment" type="fixed">
    <origin rpy="0 -1.57079632679 0" xyz="-0.0455 0 -0.0375"/>
    <parent link="static_elbow_M23_S23"/>
    <child link="foot_input_M29_S29"/>
  </joint>
  <joint name="connection_29_attachment" type="fixed">
    <origin rpy="0 -1.57079632679 0" xyz="-0.0455 0 -0.0375"/>
    <parent link="static_elbow_M24_S24"/>
    <child link="foot_input_M30_S30"/>
  </joint>
</robot>
